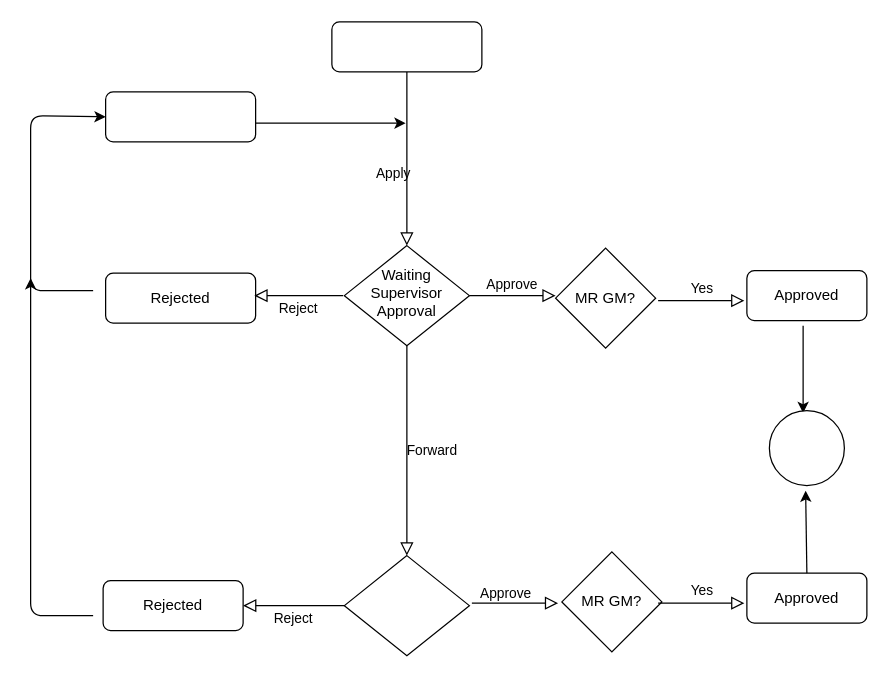
This 889x678 diagram has some shape labels left out. The centre of each missing label's shape, as x and y in pixels:
"Create MR" belongs at point (406, 46).
"Finish" belongs at point (806, 447).
"Reapply" belongs at point (180, 116).
"Verified By Supervisor" belongs at point (406, 605).
